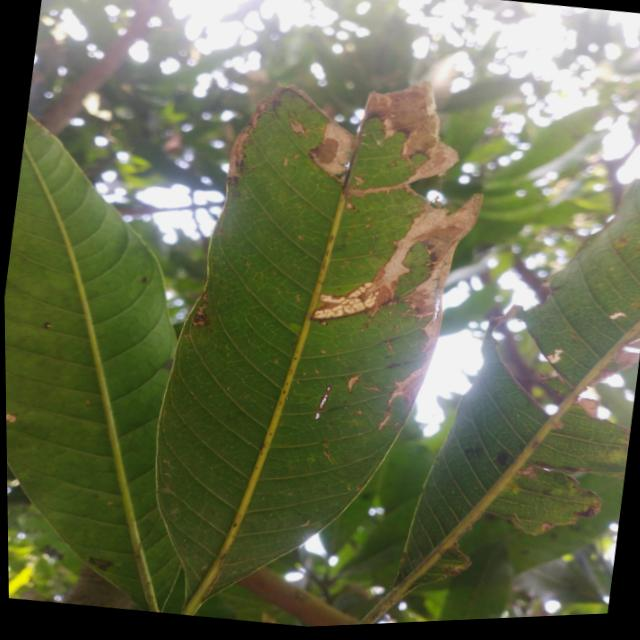Anthracnose: (192, 297, 213, 331)
Bacterial Cancer: (358, 88, 445, 172), (305, 270, 406, 333), (395, 207, 458, 267)
